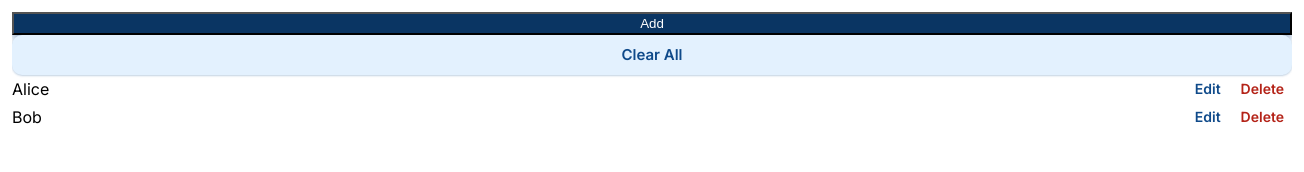
Test: ItemList › cancels a rename with Escape without saving or bubbling
The width and height of the screenshot is (1304, 172).
Click the button with aria-label "Edit Alice" at (1208, 89), box [1187, 75, 1229, 103]
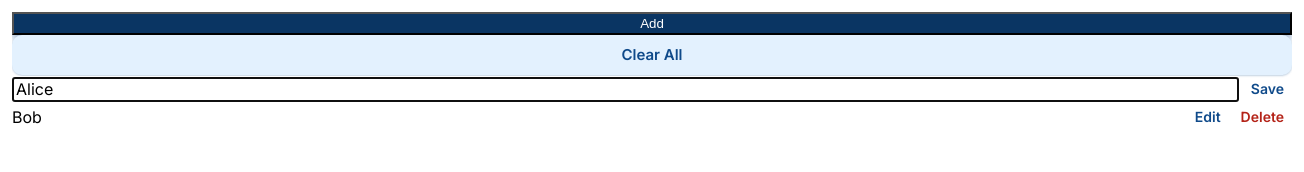
Type keys "xyz{Escape}"
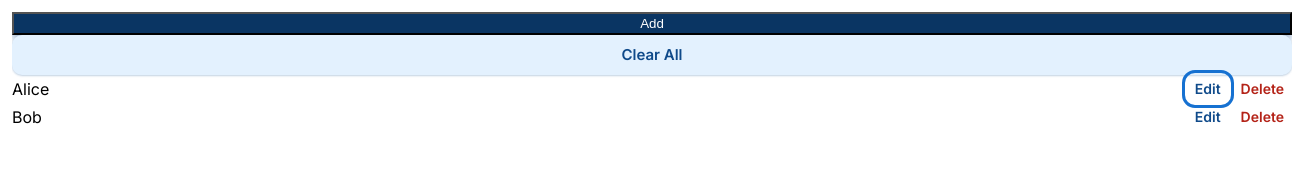
Check: the button with aria-label "Edit Alice" is shown, box [1187, 75, 1229, 103]
